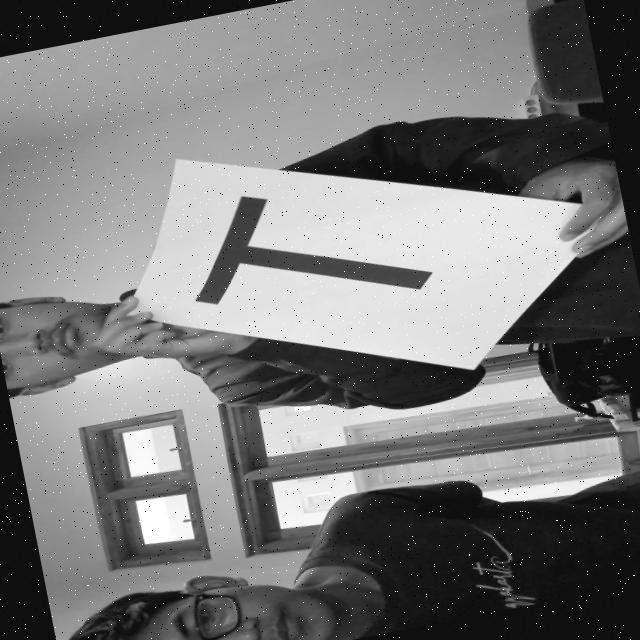t: (156, 142, 482, 346)
